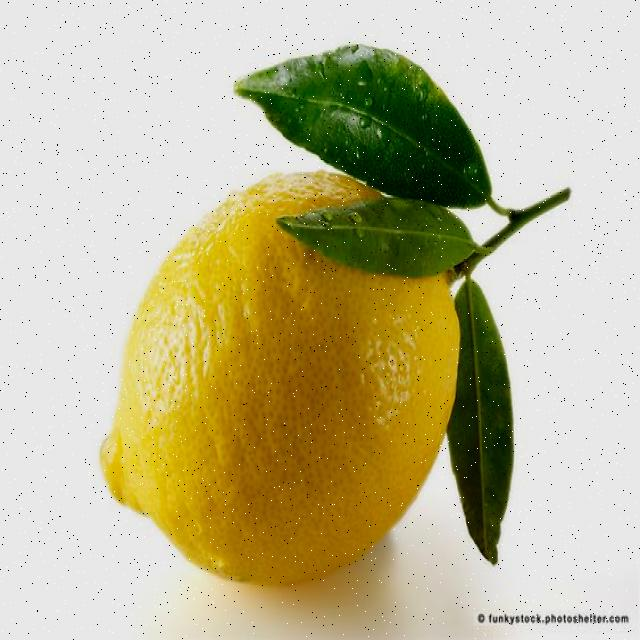Lemon: (101, 46, 571, 584)
